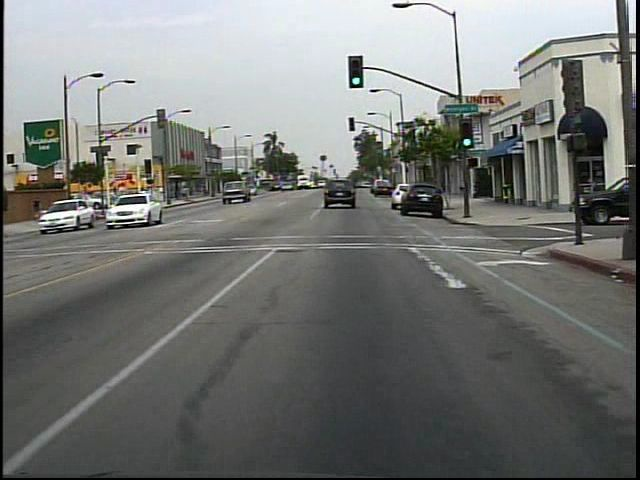person: (137, 184, 154, 209)
